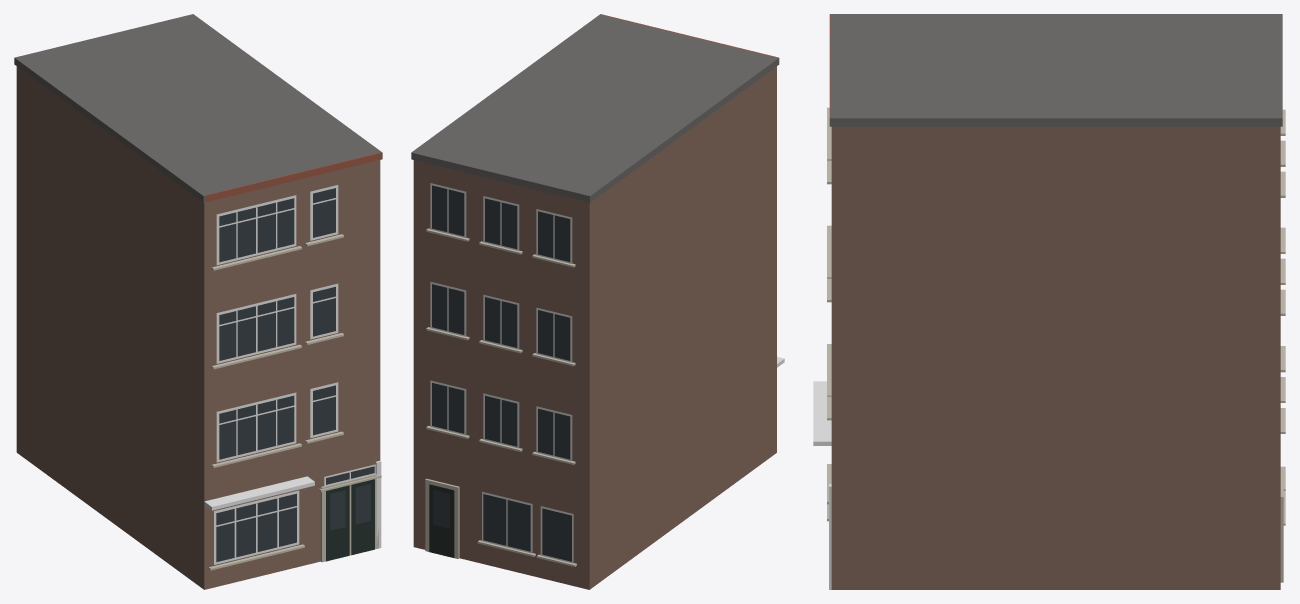
Rendered from we-or-wide__brown__4__flat__long__solid__f0d0.glb.
The picture shows the model from 3 angles, left to right: view 1: azimuth 30°, elevation 25°; view 2: azimuth 150°, elevation 25°; view 3: azimuth 270°, elevation 25°; orthographic projection. The views are drawn at different scales.
Parts seen in each view (by area): view 1: we-or-wide__brown__4__flat__long__solid__f0d0; view 2: we-or-wide__brown__4__flat__long__solid__f0d0; view 3: we-or-wide__brown__4__flat__long__solid__f0d0.
Boxes of the visible parts, bbox=[...] form: we-or-wide__brown__4__flat__long__solid__f0d0: bbox=[14, 14, 382, 589]; we-or-wide__brown__4__flat__long__solid__f0d0: bbox=[411, 14, 784, 589]; we-or-wide__brown__4__flat__long__solid__f0d0: bbox=[813, 14, 1285, 589].
Size of the model in its own units: 6.07 by 12.8 by 11.6.
